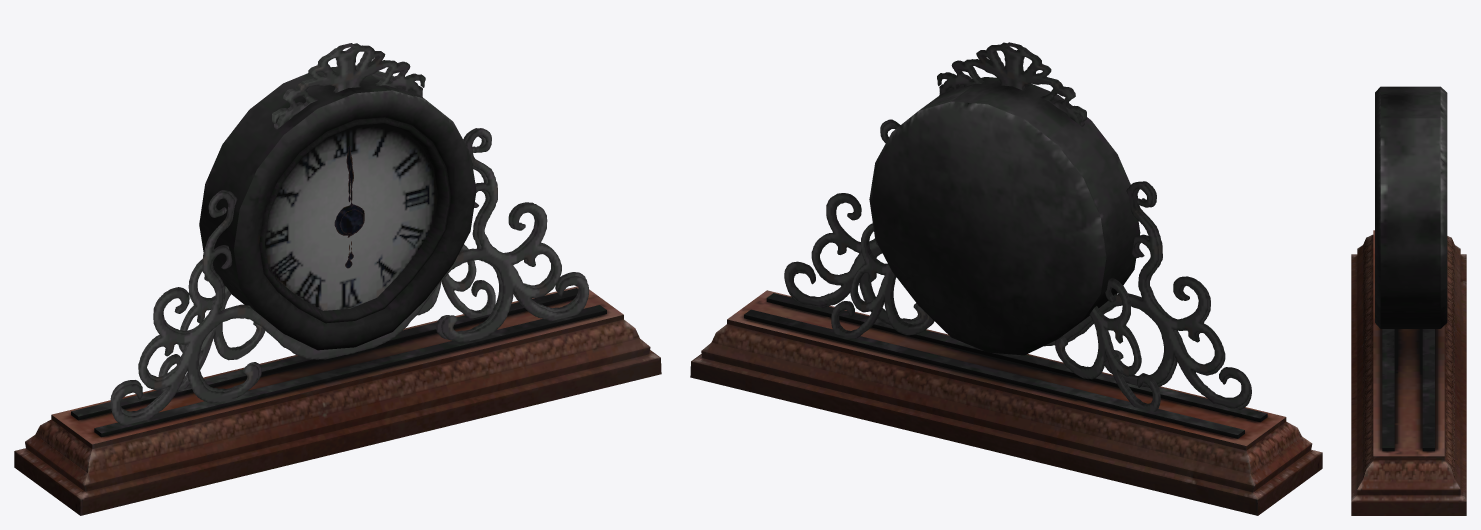
File: clock_desk.dae
3 views of the same model, side by side, from view 1: azimuth 30°, elevation 25°; view 2: azimuth 150°, elevation 25°; view 3: azimuth 270°, elevation 25° (orthographic). The views are drawn at different scales.
Visible parts, largest first — view 1: polySurface37; view 2: polySurface37; view 3: polySurface37.
Boxes of the visible parts, x1,y1,x2,y2 form: polySurface37: (14, 43, 661, 515); polySurface37: (690, 42, 1322, 515); polySurface37: (1351, 86, 1466, 515).
Bounding box in the file's own units: 0.8037 × 0.5087 × 0.1583.
